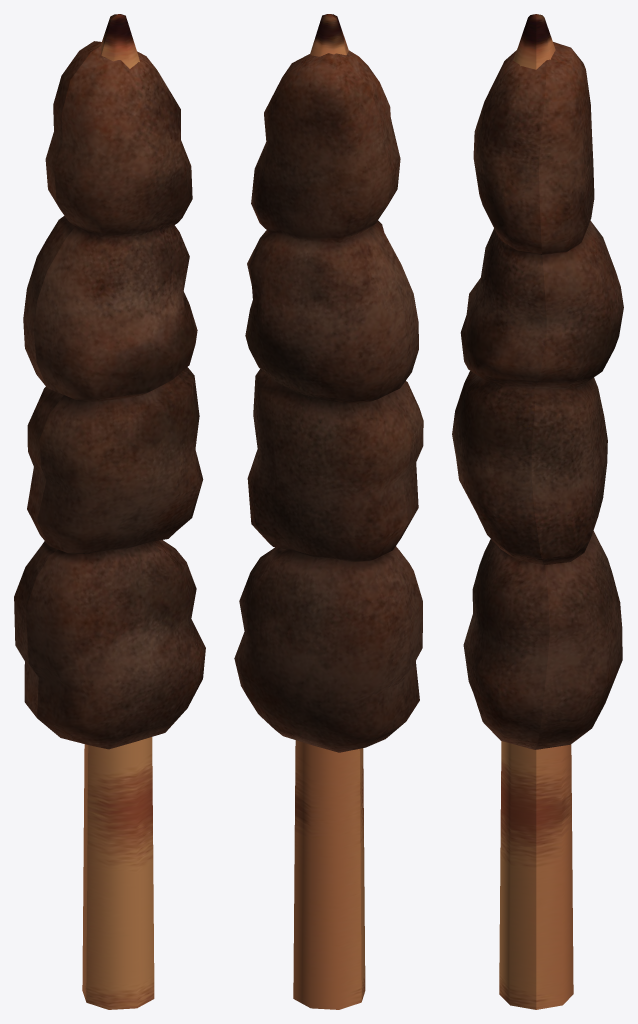
File: MeatSkewer_1.fbx
The picture shows the model from 3 angles, left to right: view 1: azimuth 30°, elevation 25°; view 2: azimuth 150°, elevation 25°; view 3: azimuth 270°, elevation 25°; orthographic projection.
Visible parts, largest first — view 1: MeatSkewer_1; view 2: MeatSkewer_1; view 3: MeatSkewer_1.
Part boxes in pixels (bbox=[...]): MeatSkewer_1: bbox=[14, 14, 205, 1009]; MeatSkewer_1: bbox=[234, 14, 423, 1009]; MeatSkewer_1: bbox=[452, 14, 623, 1009].
Bounding box in the file's own units: 17.08 × 97.53 × 15.5.
1 material, 1 textured.
